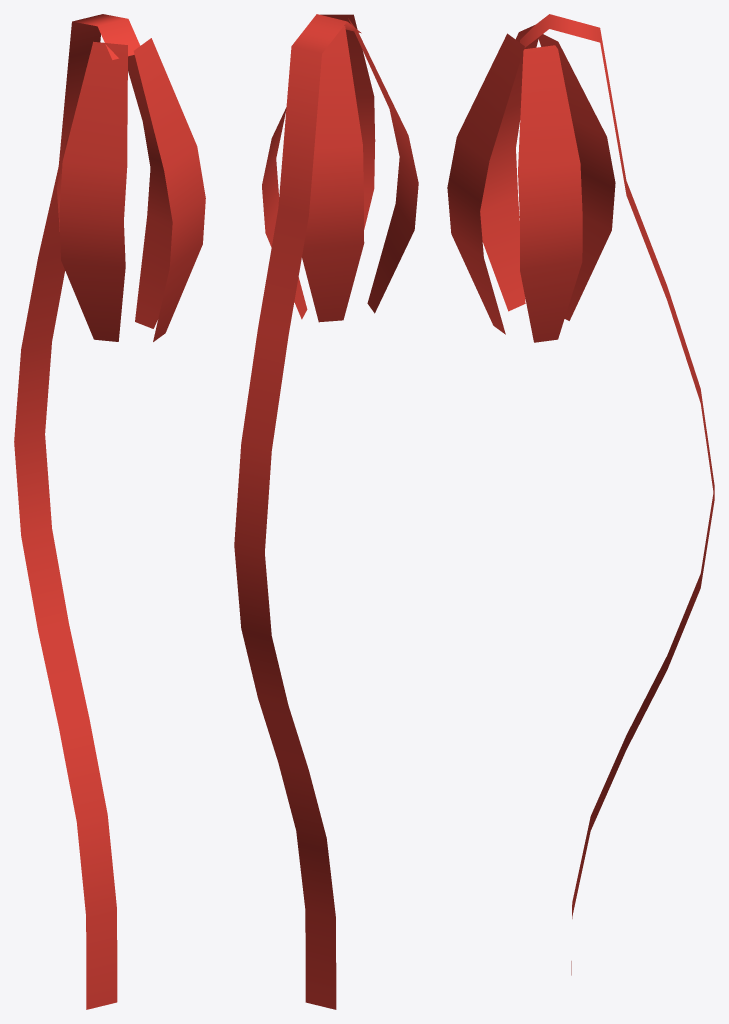
File: Fiber02_Ptychostomum_capillare.fbx
The picture shows the model from 3 angles, left to right: view 1: azimuth 30°, elevation 25°; view 2: azimuth 150°, elevation 25°; view 3: azimuth 270°, elevation 25°; orthographic projection.
Parts seen in each view (by area): view 1: Fiber02_Ptychostomum_capillare; view 2: Fiber02_Ptychostomum_capillare; view 3: Fiber02_Ptychostomum_capillare.
Boxes of the visible parts, x1,y1,x2,y2 form: Fiber02_Ptychostomum_capillare: [14, 14, 205, 1009]; Fiber02_Ptychostomum_capillare: [234, 14, 418, 1009]; Fiber02_Ptychostomum_capillare: [447, 14, 714, 975].
Bounding box in the file's own units: 3.77 × 25.14 × 6.21.
